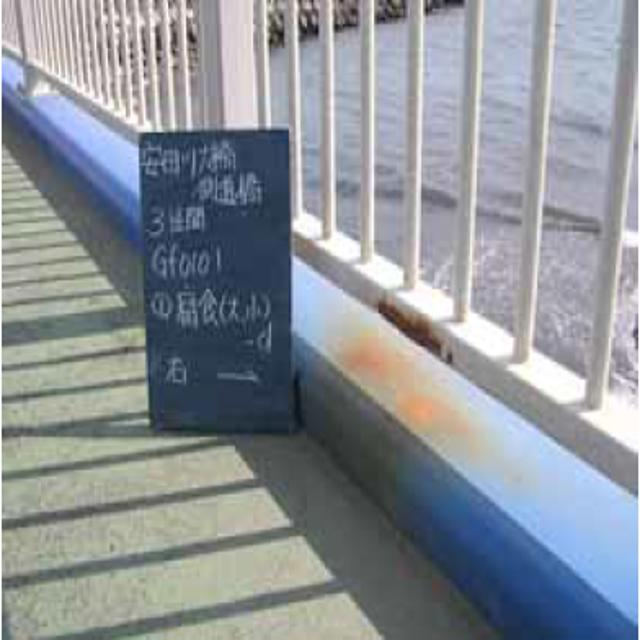corrosion: (357, 291, 470, 483)
